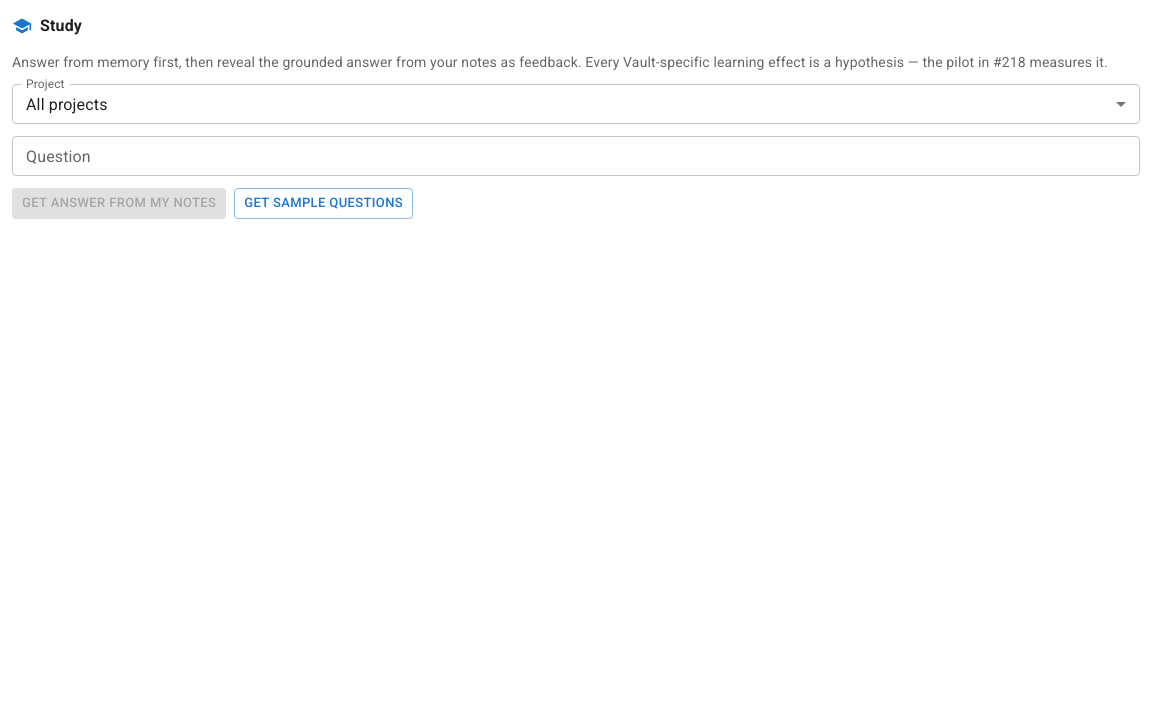
Test: StudyView › allows reveal after "I don't know"
Type "What is PARA?" into the field labelled "Question".
click(576, 156); type("What is PARA?")  # box x1=12 y1=136 x2=1140 y2=176
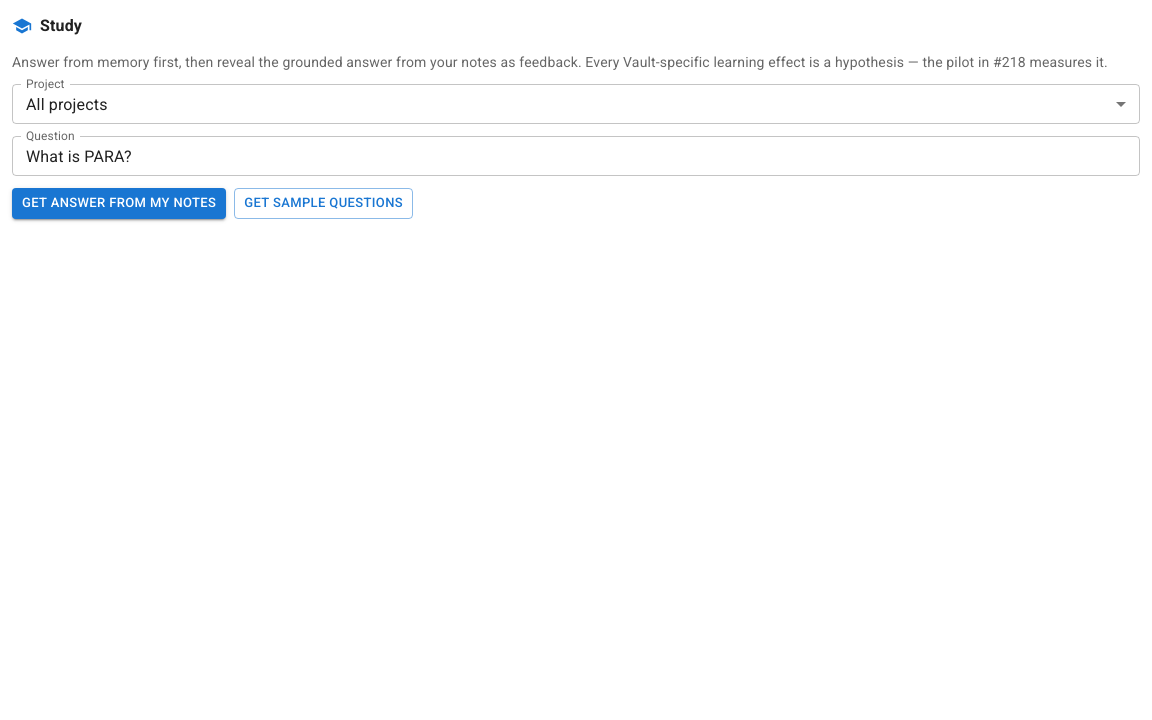
Click the button "Get answer from my notes".
click(119, 203)  # box x1=12 y1=188 x2=226 y2=219
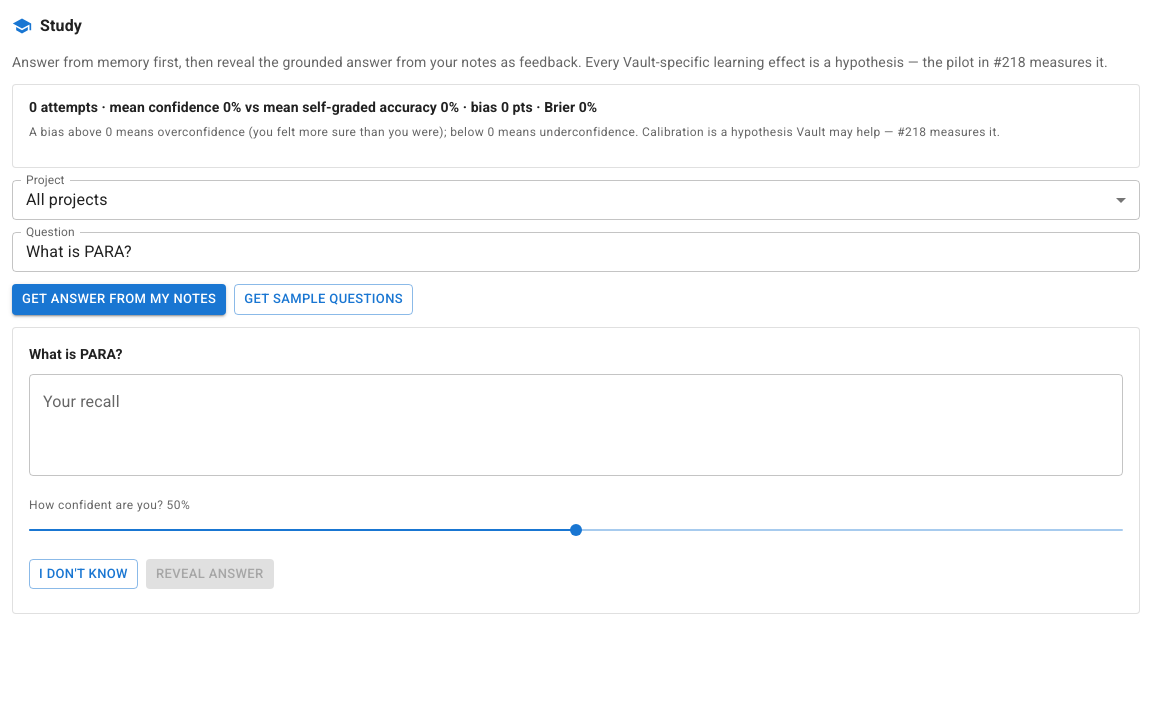
Result: the button "Reveal answer" is disabled at x1=146 y1=559 x2=274 y2=590
Click the button "I don't know".
click(83, 574)  # box x1=29 y1=559 x2=138 y2=590
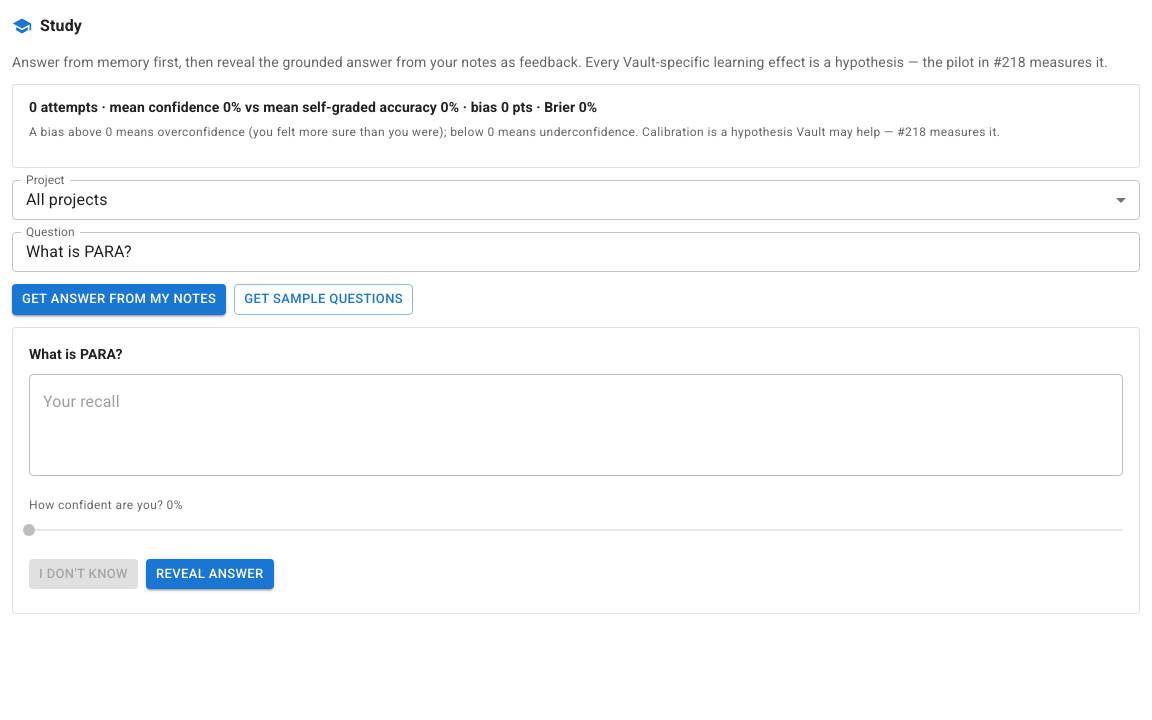
Result: the button "Reveal answer" is enabled
Click the button "Reveal answer".
click(210, 574)  # box x1=146 y1=559 x2=274 y2=590
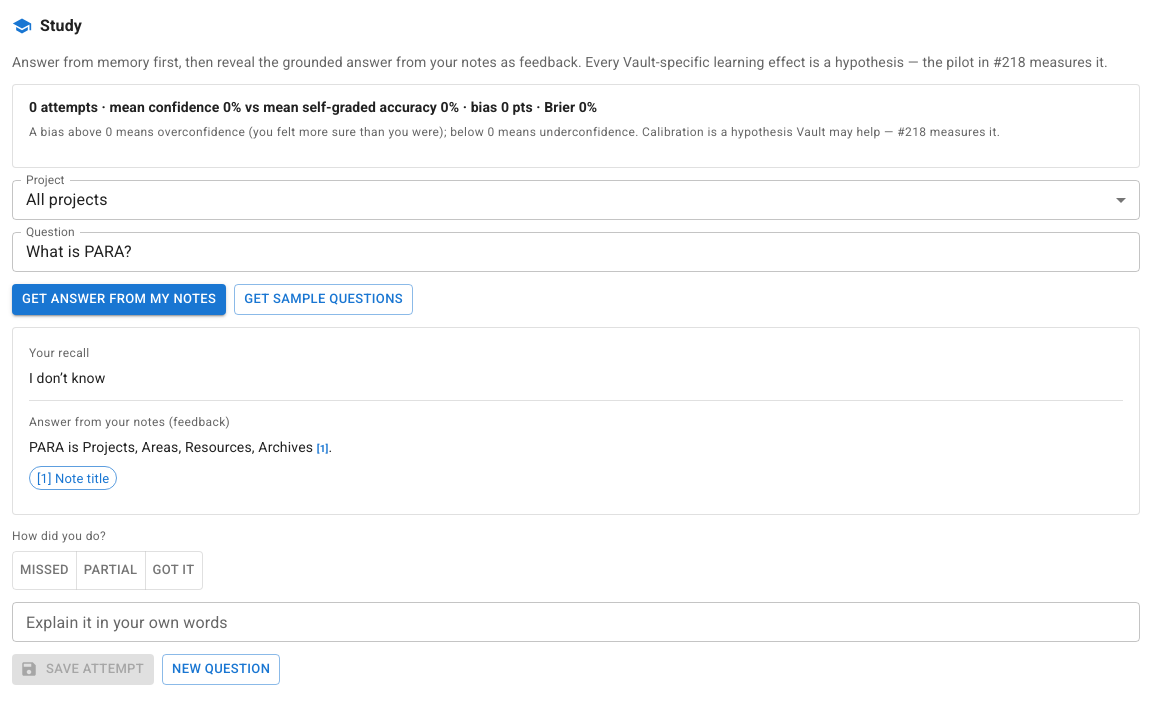
Result: the text "PARA is Projects, Areas, Resources, Archives [1]." is shown at x1=29 y1=439 x2=332 y2=455
Result: the text "[1] Note title" is shown at x1=37 y1=470 x2=109 y2=486
